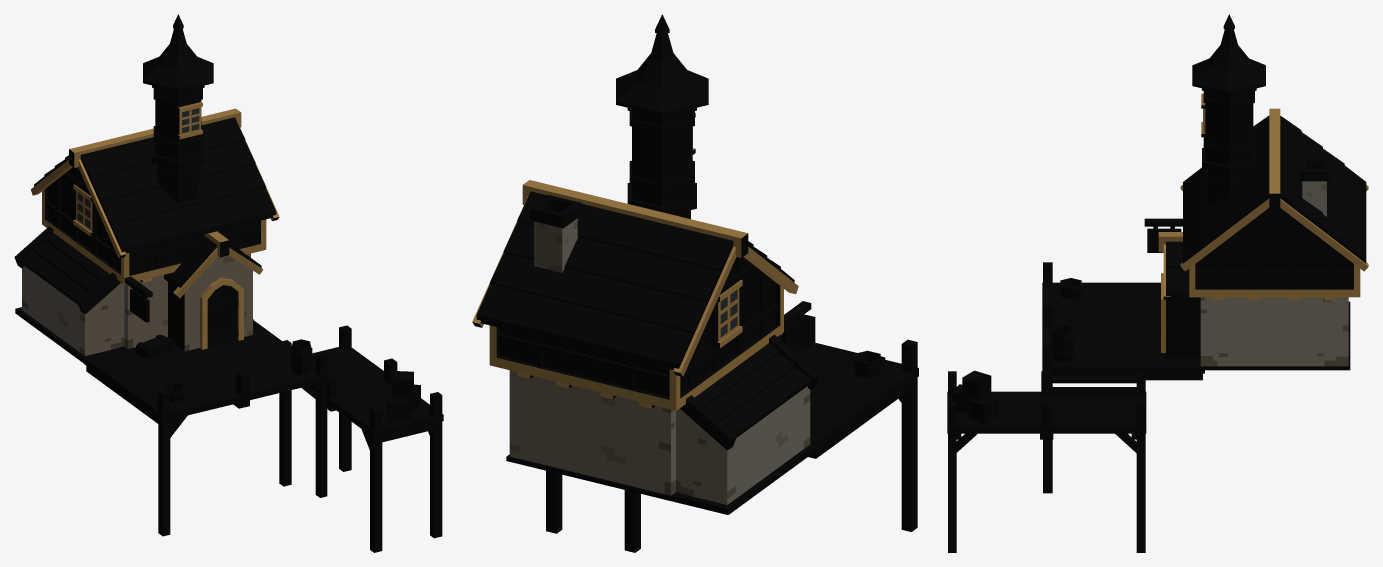
Rendered from House_Fishing.gltf.
3 renders of one model, left to right at view 1: azimuth 30°, elevation 25°; view 2: azimuth 150°, elevation 25°; view 3: azimuth 270°, elevation 25°, orthographic. The views are drawn at different scales.
Visible parts, largest first — view 1: SF_Bld_House_Fishing_01; view 2: SF_Bld_House_Fishing_01; view 3: SF_Bld_House_Fishing_01.
Part boxes in pixels (x1,y1,x2,y2): SF_Bld_House_Fishing_01: (14, 14, 443, 552); SF_Bld_House_Fishing_01: (472, 14, 918, 552); SF_Bld_House_Fishing_01: (947, 14, 1368, 552).
Bounding box in the file's own units: 0.1516 × 0.2766 × 0.2231.
Materials: 1 (1 with a texture image).
